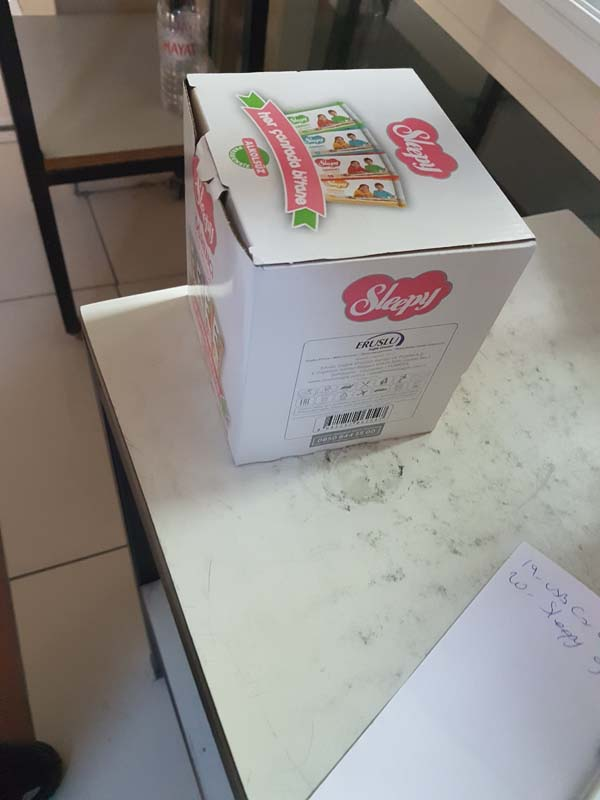sleepyogrencikoli: (169, 48, 547, 478)
